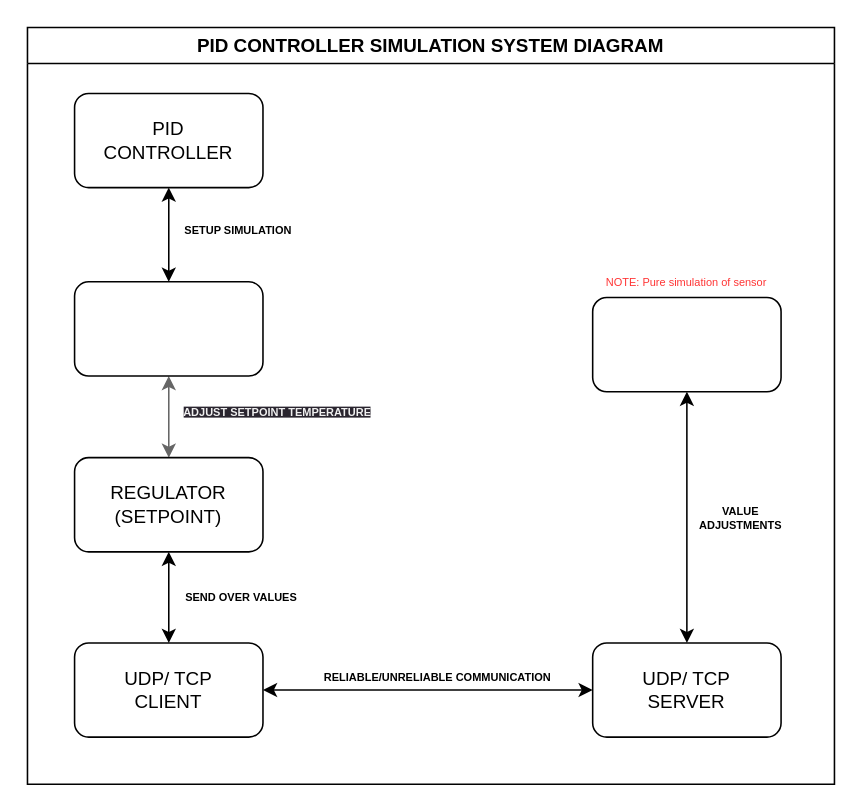
This 862x812 diagram has some shape labels left out. The box of each missing label's shape, as (x1, y1, x2, y2) in pixels:
GUI: (73, 280, 263, 376)
SENSOR TEMPERATURE MESSURMENT: (591, 296, 781, 392)
